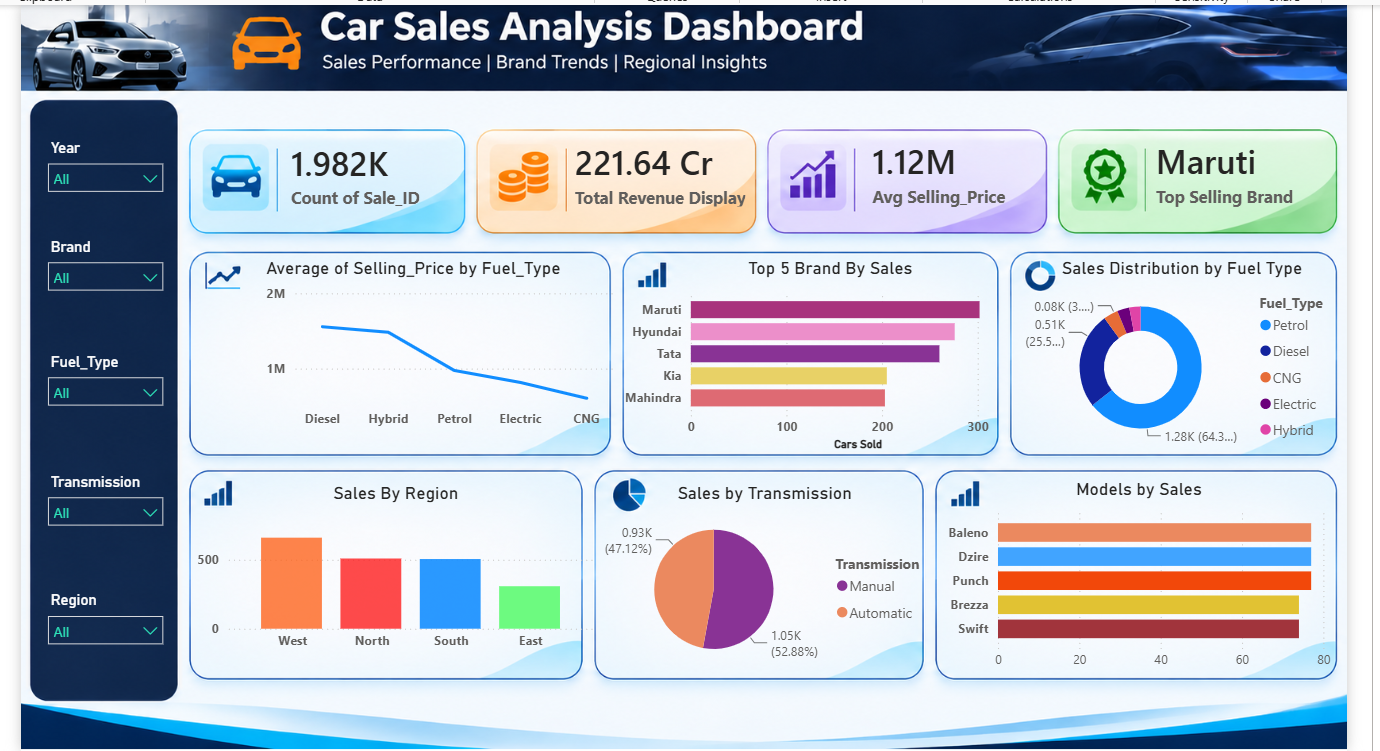

Layout of this report page (visuals, bound fields, positions):
{"tool":"powerbi","page":{"name":"Page 1","canvas":[1280,720],"ordinal":0},"visuals":[{"type":"cardVisual","fields":{"Data":["car_sales_db car_sales.Top Selling Brand"]},"box":[1066.5,89.3,213.5,146],"z":0},{"type":"cardVisual","fields":{"Data":["Avg(car_sales_db car_sales.Selling_Price)"]},"box":[792.6,105,193,114.6],"z":1000},{"type":"cardVisual","fields":{"Data":["car_sales_db car_sales.Total Revenue Display"]},"box":[505.5,114.6,240.1,97.7],"z":2000},{"type":"cardVisual","fields":{"Data":["CountNonNull(car_sales_db car_sales.Sale_ID)"]},"box":[231.6,112.2,189.4,102.5],"z":3000},{"type":"slicer","fields":{"Values":["car_sales_db car_sales.Year"]},"box":[15.7,124.3,131.5,77.2],"z":4000},{"type":"slicer","fields":{"Values":["car_sales_db car_sales.Brand"]},"box":[15.7,219.6,131.5,72.4],"z":5000},{"type":"slicer","fields":{"Values":["car_sales_db car_sales.Fuel_Type"]},"box":[15.7,330.6,131.5,80.8],"z":6000},{"type":"slicer","fields":{"Values":["car_sales_db car_sales.Transmission"]},"box":[15.7,446.4,131.5,80.8],"z":7000},{"type":"slicer","fields":{"Values":["car_sales_db car_sales.Region"]},"box":[15.7,561,131.5,79.6],"z":8000},{"type":"lineChart","fields":{"Category":["car_sales_db car_sales.Fuel_Type"],"Y":["Avg(car_sales_db car_sales.Selling_Price)"]},"box":[231.6,243.7,345,173.7],"z":9000},{"type":"clusteredBarChart","title":"Top 5 Brand By Sales","fields":{"Category":["car_sales_db car_sales.Brand"],"Y":["CountNonNull(car_sales_db car_sales.Sale_ID)"]},"box":[576.7,243.7,409,191.8],"z":10000},{"type":"donutChart","title":"Sales Distribution by Fuel Type","fields":{"Category":["car_sales_db car_sales.Fuel_Type"],"Y":["Count(car_sales_db car_sales.Sale_ID)"]},"box":[961.5,243.7,318.5,191.8],"z":11000},{"type":"clusteredColumnChart","title":"Sales By Region","fields":{"Category":["car_sales_db car_sales.Region"],"Y":["CountNonNull(car_sales_db car_sales.Sale_ID)"]},"box":[165.3,460.9,393.3,171.3],"z":12000},{"type":"pieChart","title":"Sales by Transmission","fields":{"Category":["car_sales_db car_sales.Transmission"],"Y":["CountNonNull(car_sales_db car_sales.Sale_ID)"]},"box":[546.5,460.9,342.6,185.8],"z":13000},{"type":"clusteredBarChart","title":"Models by Sales","fields":{"Category":["car_sales_db car_sales.Model"],"Y":["CountNonNull(car_sales_db car_sales.Sale_ID)"]},"box":[889.1,457.2,380,193],"z":14000}]}

Visuals, with their boxes on the page's 1280x720 design canvas (x1, y1, x2, y2). These are canvas units, not pixel positions in the 1380x751 screenshot, which may show the page scaled, cropped or inside an application window:
cardVisual - car_sales_db car_sales.Top Selling Brand: 1066, 89, 1280, 235
cardVisual - Avg(car_sales_db car_sales.Selling_Price): 793, 105, 986, 220
cardVisual - car_sales_db car_sales.Total Revenue Display: 506, 115, 746, 212
cardVisual - CountNonNull(car_sales_db car_sales.Sale_ID): 232, 112, 421, 215
slicer - car_sales_db car_sales.Year: 16, 124, 147, 202
slicer - car_sales_db car_sales.Brand: 16, 220, 147, 292
slicer - car_sales_db car_sales.Fuel_Type: 16, 331, 147, 411
slicer - car_sales_db car_sales.Transmission: 16, 446, 147, 527
slicer - car_sales_db car_sales.Region: 16, 561, 147, 641
lineChart - car_sales_db car_sales.Fuel_Type x Avg(car_sales_db car_sales.Selling_Price): 232, 244, 577, 417
"Top 5 Brand By Sales" clusteredBarChart: 577, 244, 986, 436
"Sales Distribution by Fuel Type" donutChart: 962, 244, 1280, 436
"Sales By Region" clusteredColumnChart: 165, 461, 559, 632
"Sales by Transmission" pieChart: 546, 461, 889, 647
"Models by Sales" clusteredBarChart: 889, 457, 1269, 650
